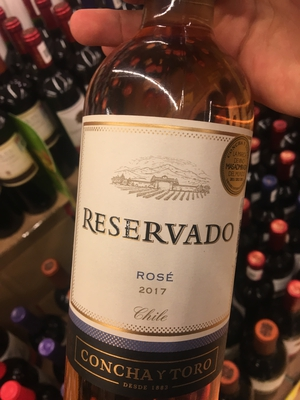reservado rose: (51, 8, 283, 400)
